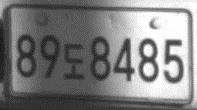4: (111, 36, 135, 82)
5: (162, 38, 184, 83)
8: (89, 36, 111, 82), (15, 33, 37, 78), (137, 37, 159, 82)
9: (38, 34, 60, 79)
도: (62, 42, 86, 81)
